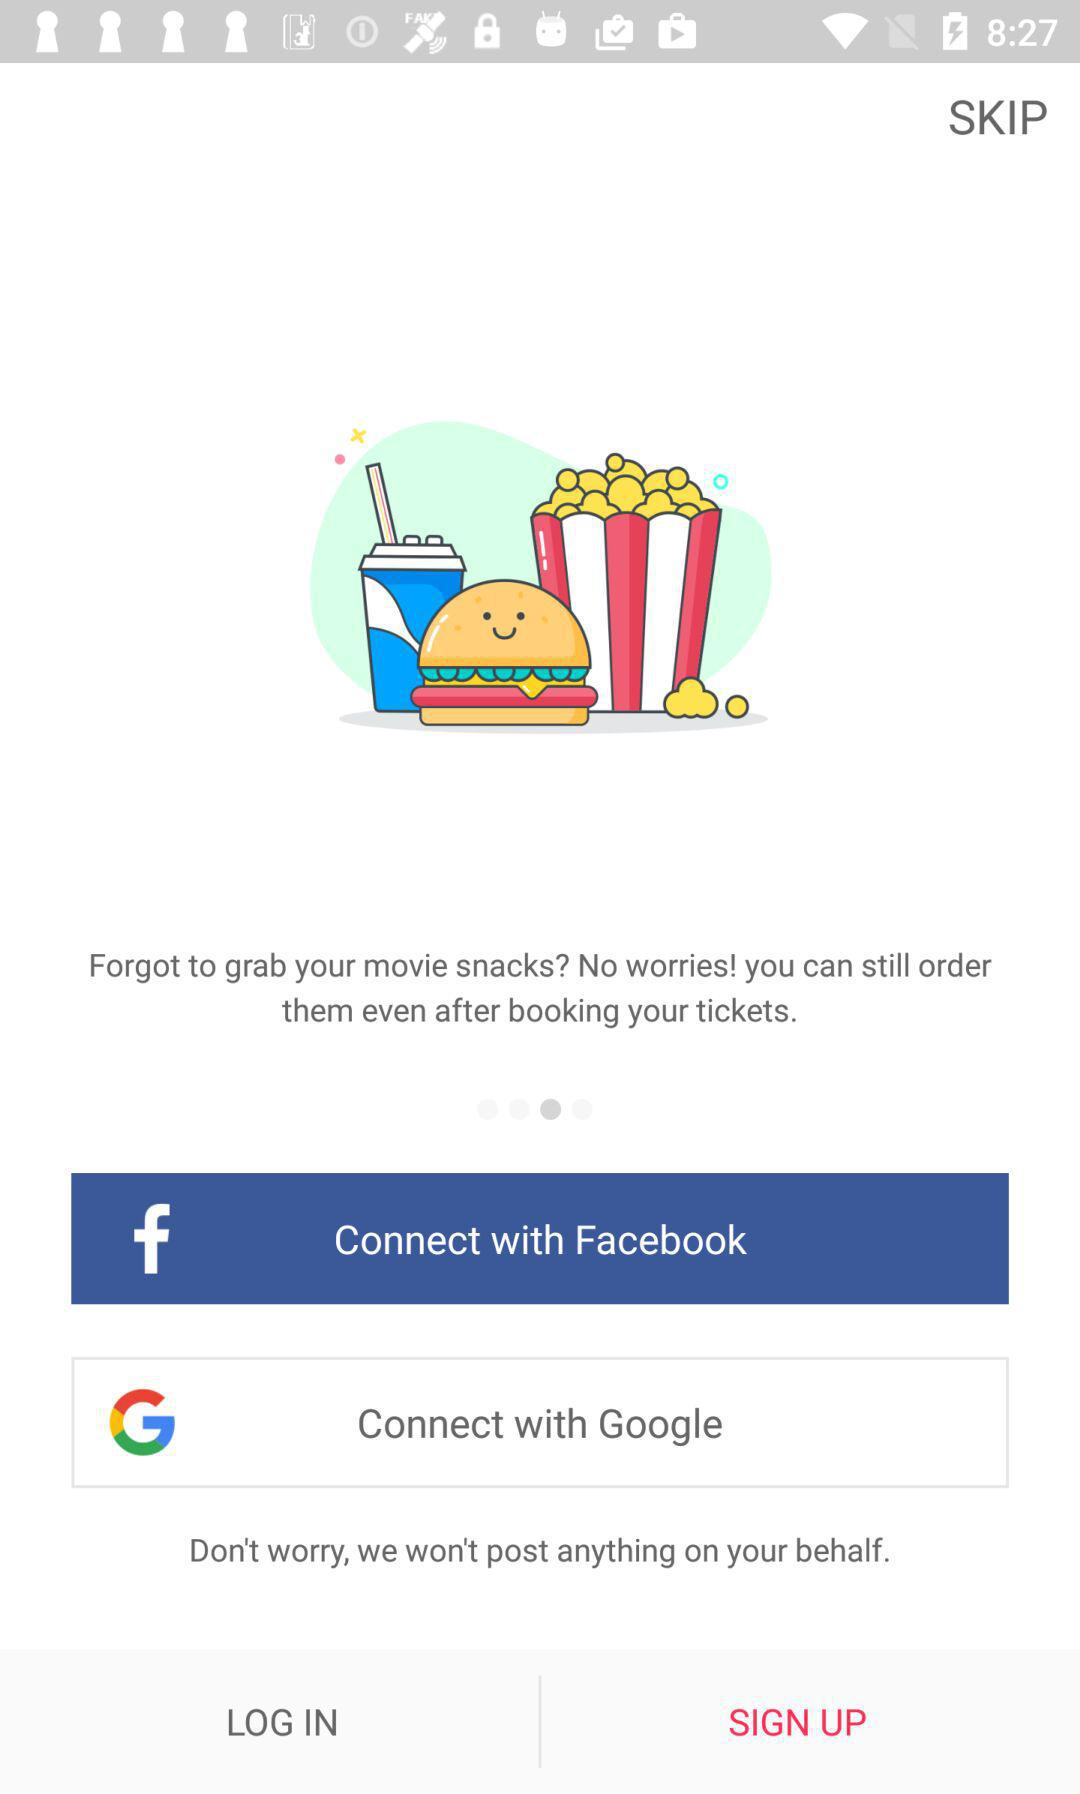Image: (309, 422, 773, 736)
PageIndicator: (477, 1097, 594, 1123)
Text: (88, 951, 994, 1032), (191, 1536, 889, 1570), (948, 99, 1049, 138)
TextButton: (70, 1173, 1010, 1304), (72, 1357, 1010, 1489), (1, 1652, 541, 1794), (541, 1652, 1080, 1794)
UpperTaskBar: (1, 1, 1080, 64)
